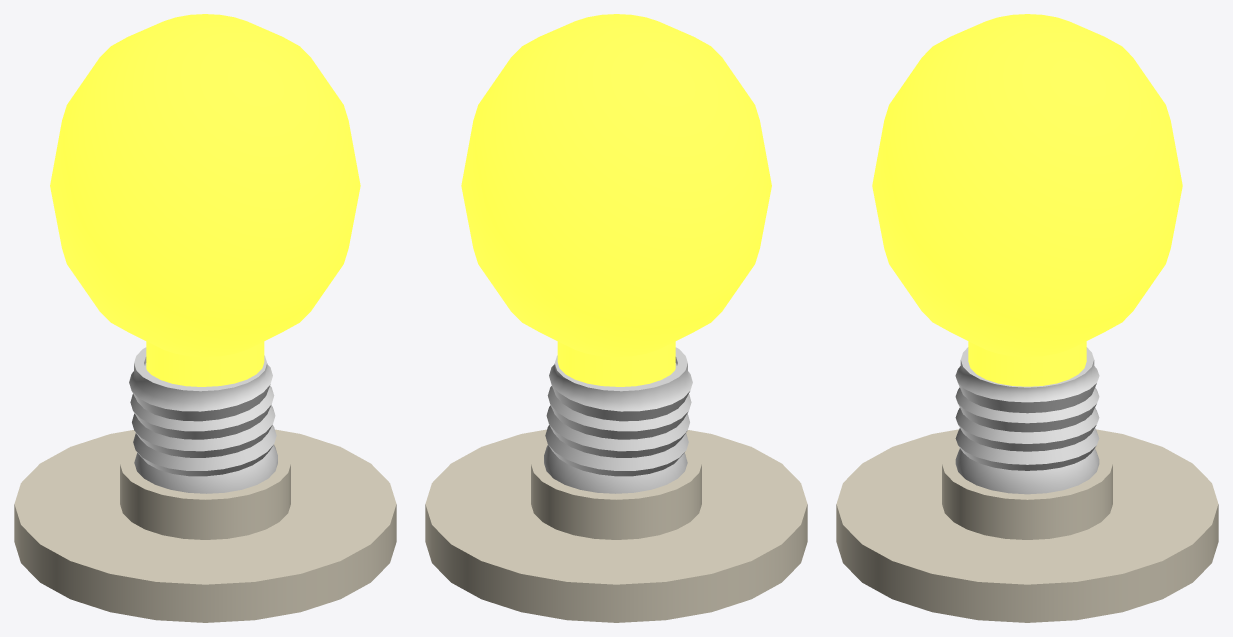
File: Lampada.fbx
3 views of the same model, side by side, from view 1: azimuth 30°, elevation 25°; view 2: azimuth 150°, elevation 25°; view 3: azimuth 270°, elevation 25° (orthographic).
Parts seen in each view (by area): view 1: Lampada, Base.001; view 2: Lampada, Base.001; view 3: Lampada, Base.001.
Part boxes in pixels (x1,y1,x2,y2): Lampada: (50,14,360,386); Base.001: (14,347,396,622); Lampada: (461,14,771,386); Base.001: (425,347,807,622); Lampada: (872,14,1182,386); Base.001: (836,347,1218,622).
Bounding box in the file's own units: 307 × 455 × 307.
